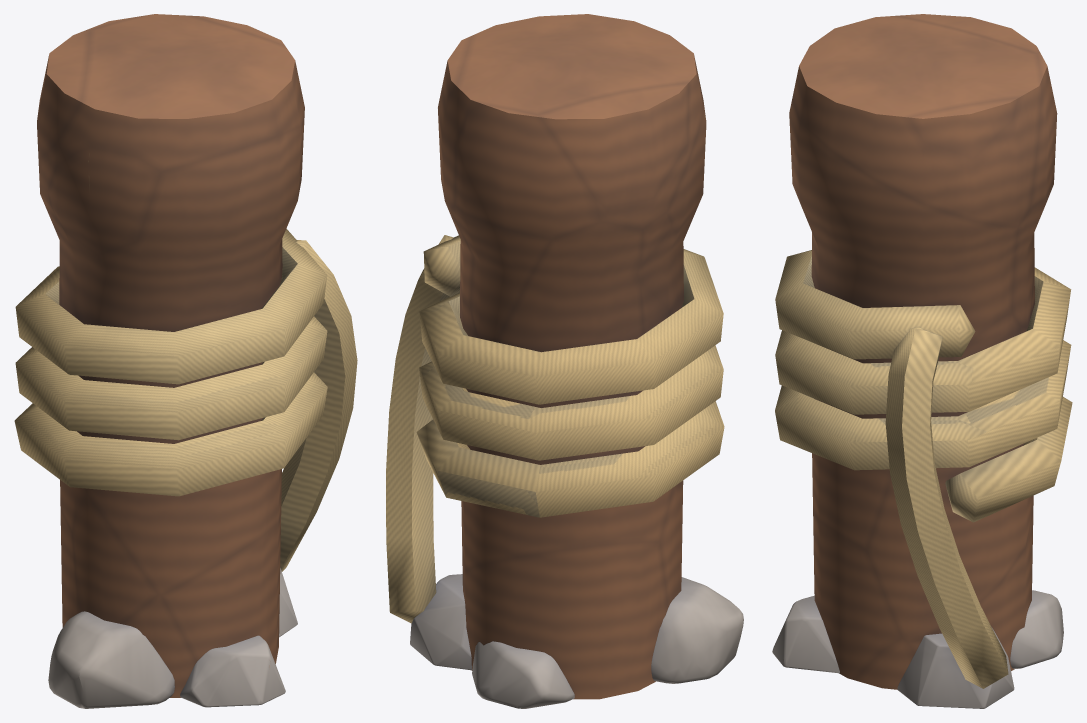
File: CC_P10_MooringPost.fbx
The picture shows the model from 3 angles, left to right: view 1: azimuth 30°, elevation 25°; view 2: azimuth 150°, elevation 25°; view 3: azimuth 270°, elevation 25°; orthographic projection.
Visible parts, largest first — view 1: Post, Rope; view 2: Post, Rope; view 3: Post, Rope.
Part boxes in pixels (x1,y1,x2,y2): Post: (37, 14, 304, 708); Rope: (14, 228, 357, 571); Post: (410, 14, 743, 708); Rope: (386, 235, 724, 623); Post: (772, 14, 1063, 708); Rope: (775, 250, 1072, 688).
Size of the model in its own units: 0.5512 by 1 by 0.4593.
